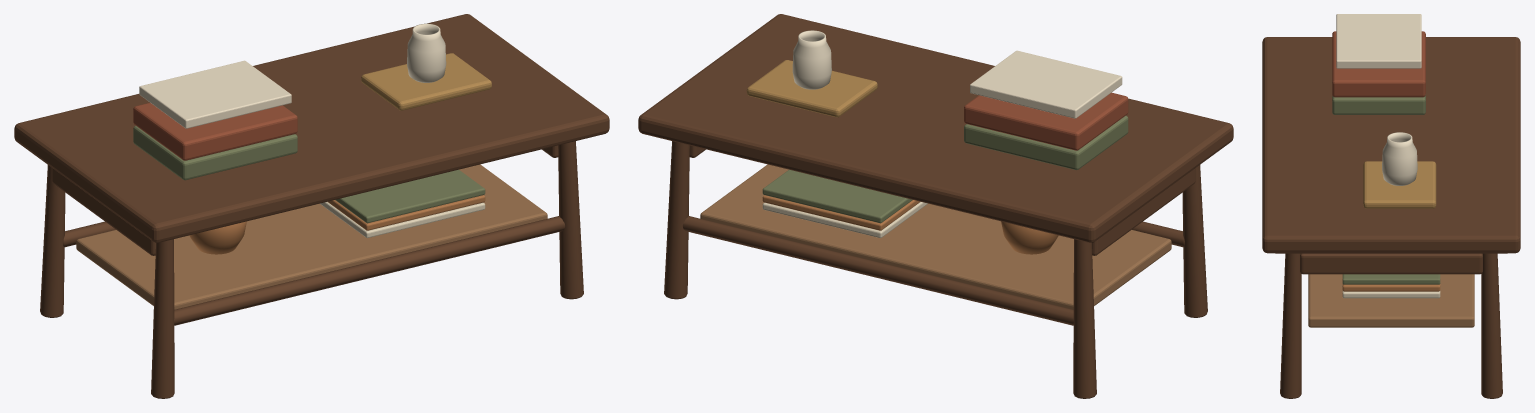
The model's file is coffee-table.glb.
3 renders of one model, left to right at view 1: azimuth 30°, elevation 25°; view 2: azimuth 150°, elevation 25°; view 3: azimuth 270°, elevation 25°, orthographic. The views are drawn at different scales.
Parts seen in each view (by area): view 1: coffee-table__wood_walnut, coffee-table__wood_oak, coffee-table__ceramic_ivory, coffee-table__fabric_sage, coffee-table__fabric_terracotta, coffee-table__metal_brass, coffee-table__ceramic_ochre, coffee-table__fabric_linen; view 2: coffee-table__wood_walnut, coffee-table__wood_oak, coffee-table__ceramic_ivory, coffee-table__fabric_sage, coffee-table__fabric_terracotta, coffee-table__metal_brass, coffee-table__ceramic_ochre, coffee-table__fabric_linen; view 3: coffee-table__wood_walnut, coffee-table__wood_oak, coffee-table__ceramic_ivory, coffee-table__fabric_terracotta, coffee-table__fabric_sage, coffee-table__metal_brass, coffee-table__ceramic_ochre, coffee-table__fabric_linen.
Boxes of the visible parts, x1,y1,x2,y2 form: coffee-table__wood_walnut: (14, 14, 609, 398); coffee-table__wood_oak: (76, 164, 547, 309); coffee-table__ceramic_ivory: (139, 23, 446, 128); coffee-table__fabric_sage: (133, 126, 485, 223); coffee-table__fabric_terracotta: (133, 103, 297, 160); coffee-table__metal_brass: (361, 53, 491, 110); coffee-table__ceramic_ochre: (189, 195, 485, 254); coffee-table__fabric_linen: (320, 202, 485, 237); coffee-table__wood_walnut: (638, 14, 1233, 398); coffee-table__wood_oak: (700, 164, 1171, 309); coffee-table__ceramic_ivory: (792, 30, 1122, 118); coffee-table__fabric_sage: (762, 115, 1128, 223); coffee-table__fabric_terracotta: (964, 92, 1128, 150); coffee-table__metal_brass: (746, 60, 877, 117); coffee-table__ceramic_ochre: (762, 195, 1058, 254); coffee-table__fabric_linen: (762, 202, 927, 237); coffee-table__wood_walnut: (1262, 37, 1520, 398); coffee-table__wood_oak: (1308, 274, 1474, 327); coffee-table__ceramic_ivory: (1336, 14, 1421, 185); coffee-table__fabric_terracotta: (1332, 31, 1425, 97); coffee-table__fabric_sage: (1332, 94, 1440, 284); coffee-table__metal_brass: (1363, 161, 1436, 208); coffee-table__ceramic_ochre: (1342, 284, 1440, 291); coffee-table__fabric_linen: (1342, 291, 1440, 298).
Bounding box in the file's own units: 1.15 × 0.5887 × 0.62.
